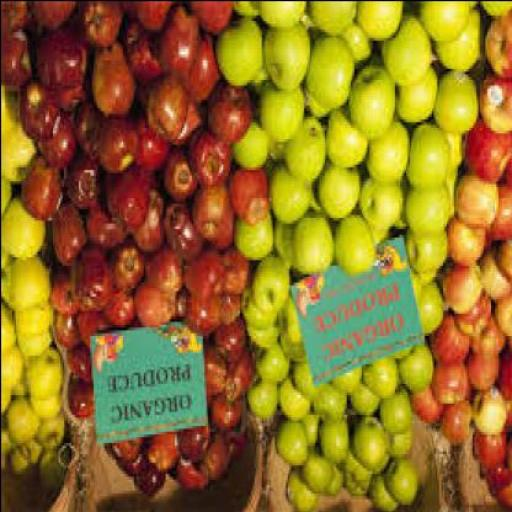biodegradable: (35, 25, 89, 99), (90, 45, 138, 124), (306, 36, 357, 110), (348, 65, 397, 141), (381, 18, 433, 88), (464, 114, 511, 190), (205, 84, 253, 158), (436, 2, 482, 79), (266, 20, 311, 96), (216, 18, 263, 88), (292, 211, 337, 279), (404, 127, 451, 191), (161, 5, 200, 82), (393, 67, 440, 130), (286, 116, 328, 186), (262, 84, 305, 152), (109, 169, 152, 236), (270, 164, 315, 228), (366, 120, 411, 184), (190, 124, 231, 194), (318, 161, 363, 222), (436, 73, 478, 137), (2, 202, 46, 262), (454, 172, 501, 228), (22, 160, 63, 224), (328, 110, 370, 172), (124, 23, 164, 87), (13, 256, 52, 318), (403, 186, 451, 236), (358, 180, 405, 231), (134, 188, 168, 258), (184, 33, 216, 107), (20, 88, 60, 146), (163, 206, 203, 264), (152, 80, 188, 144), (192, 186, 231, 245), (406, 228, 448, 282), (78, 250, 114, 312), (445, 267, 484, 324), (432, 315, 471, 372), (38, 110, 76, 168), (231, 172, 270, 228), (234, 210, 274, 264), (446, 216, 486, 270), (336, 219, 375, 273), (135, 112, 170, 172), (136, 279, 178, 329), (353, 3, 405, 43), (184, 248, 222, 302), (256, 256, 292, 313), (83, 3, 123, 54), (308, 3, 359, 43), (2, 124, 37, 182), (422, 3, 470, 45), (104, 115, 136, 174), (480, 75, 511, 135), (2, 32, 31, 96), (55, 209, 85, 270), (164, 152, 196, 209), (86, 202, 124, 250), (232, 120, 270, 168), (28, 352, 64, 402), (194, 439, 234, 484), (486, 11, 511, 83), (74, 102, 102, 166), (354, 419, 386, 473), (397, 349, 436, 393), (148, 247, 181, 298), (281, 301, 305, 369), (342, 22, 376, 70), (481, 251, 510, 307), (472, 391, 508, 436), (8, 397, 40, 447), (212, 318, 250, 360), (286, 469, 324, 511), (318, 422, 353, 467), (218, 253, 250, 301), (275, 422, 307, 470), (114, 247, 144, 298), (362, 360, 400, 399), (431, 371, 471, 408), (418, 284, 445, 338), (262, 3, 309, 34), (66, 166, 98, 211), (280, 380, 312, 425), (244, 287, 276, 332), (469, 314, 501, 358), (186, 298, 224, 335), (225, 354, 254, 402), (381, 394, 414, 436), (248, 377, 281, 419), (385, 467, 419, 507), (179, 425, 211, 467), (256, 344, 288, 386), (474, 430, 506, 472), (134, 2, 172, 37), (31, 2, 76, 31), (190, 3, 232, 34), (462, 298, 494, 338), (175, 107, 205, 149), (304, 453, 334, 495), (292, 360, 324, 399), (149, 433, 178, 475), (370, 472, 402, 510), (15, 304, 54, 335), (206, 352, 228, 406), (441, 408, 473, 445), (68, 380, 94, 425), (210, 402, 244, 436), (412, 390, 442, 428), (105, 292, 137, 327), (78, 313, 110, 348), (170, 462, 207, 492), (2, 2, 31, 40), (470, 357, 502, 391), (492, 188, 511, 245), (109, 442, 146, 470), (349, 382, 381, 414), (135, 470, 168, 501), (38, 417, 64, 456), (50, 284, 79, 318), (314, 388, 348, 417), (68, 346, 93, 385), (499, 352, 511, 433), (2, 346, 23, 391), (41, 456, 65, 495), (344, 467, 374, 498), (32, 396, 64, 425), (274, 225, 293, 273), (249, 324, 281, 352), (2, 90, 20, 138), (80, 315, 106, 348), (56, 310, 76, 352), (220, 292, 242, 330), (10, 450, 32, 487), (335, 372, 362, 402), (447, 136, 466, 178), (494, 292, 510, 341), (344, 469, 371, 498), (304, 90, 330, 120), (303, 413, 322, 453), (18, 335, 52, 357), (495, 245, 511, 290), (61, 87, 85, 116), (228, 427, 247, 462), (2, 422, 15, 473), (2, 306, 15, 354), (20, 442, 42, 466), (388, 436, 412, 458), (444, 180, 456, 222), (2, 254, 12, 304), (327, 469, 344, 498), (235, 3, 259, 23), (484, 475, 512, 492), (482, 2, 511, 18), (372, 228, 398, 245), (2, 177, 13, 217), (2, 392, 19, 414), (124, 461, 146, 478), (497, 484, 511, 510), (13, 386, 30, 402), (414, 276, 438, 286), (506, 439, 512, 478), (395, 352, 412, 363)
